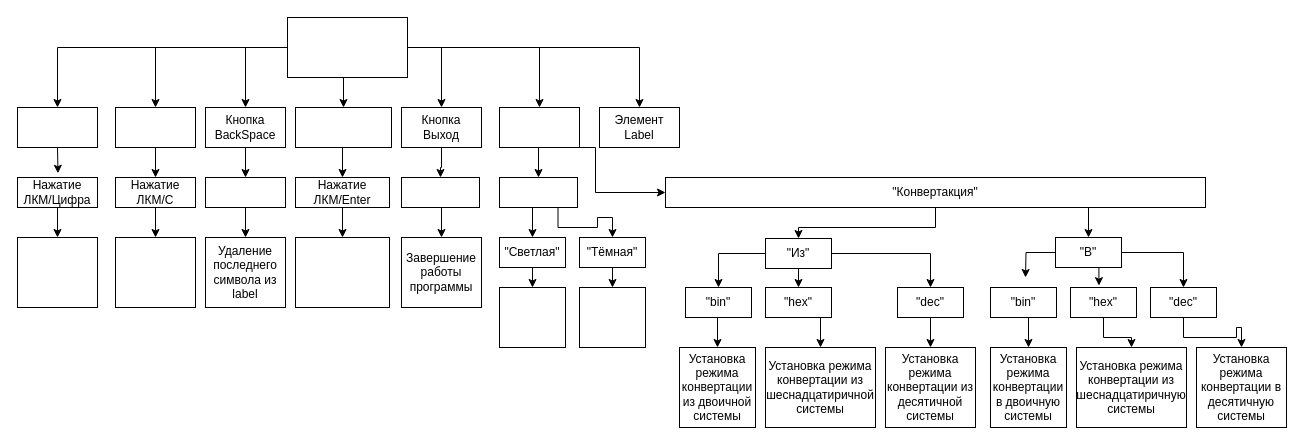
The diagram is 1304 pixels wide and 445 high, and some of its shapes have lost their labels. Each missing label, with the centre of its shape:
"Тема": the point at 538,192
Главная форма: the point at 347,47
Кнопка Clear: the point at 155,127
Кнопка Конвертировать: the point at 343,127
Конвертация: the point at 342,272
Массив кнопок от 1 до F: the point at 57,127
Меню menuStrip: the point at 539,127
Нажатие ЛКМ/BS: the point at 245,192
Нажатие ЛКМ/Esc: the point at 440,192
Очистка label: the point at 155,272
Появление в label цифры: the point at 57,272
Установка светлой темы: the point at 532,317
Установка тёмной темы: the point at 612,317
